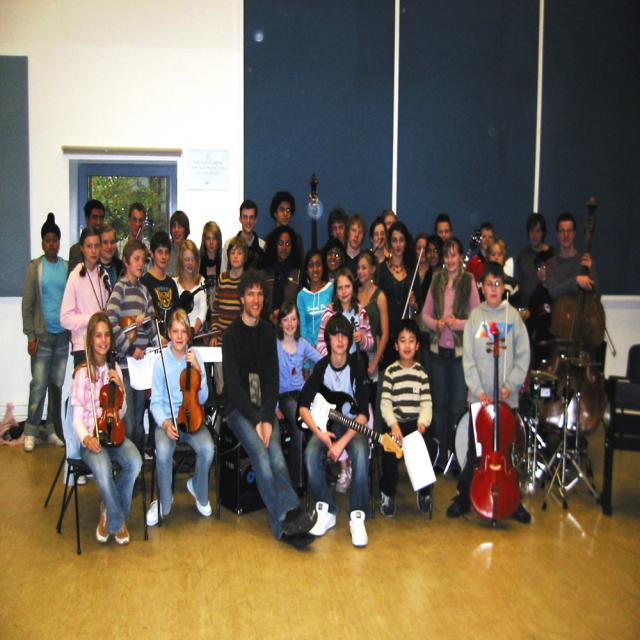cello: (469, 320, 522, 520)
guitar: (296, 381, 402, 463)
violin: (93, 341, 127, 448), (177, 323, 206, 434), (179, 274, 219, 312), (119, 310, 160, 342)
